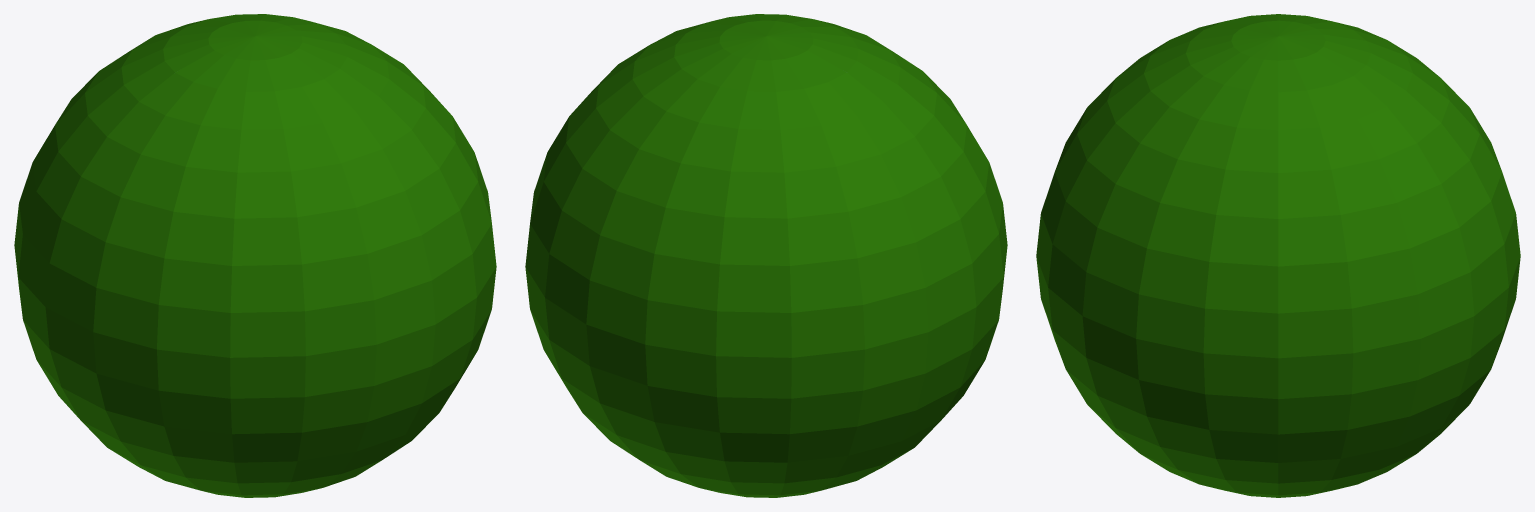
File: SM_powerup_casual.fbx
3 renders of one model, left to right at view 1: azimuth 30°, elevation 25°; view 2: azimuth 150°, elevation 25°; view 3: azimuth 270°, elevation 25°, orthographic.
Parts seen in each view (by area): view 1: SM_powerup_casual; view 2: SM_powerup_casual; view 3: SM_powerup_casual.
Boxes of the visible parts, x1=… form: SM_powerup_casual: x1=14, y1=14, x2=496, y2=497; SM_powerup_casual: x1=525, y1=14, x2=1007, y2=497; SM_powerup_casual: x1=1036, y1=14, x2=1520, y2=497.
Bounding box in the file's own units: 200 × 200 × 200.
